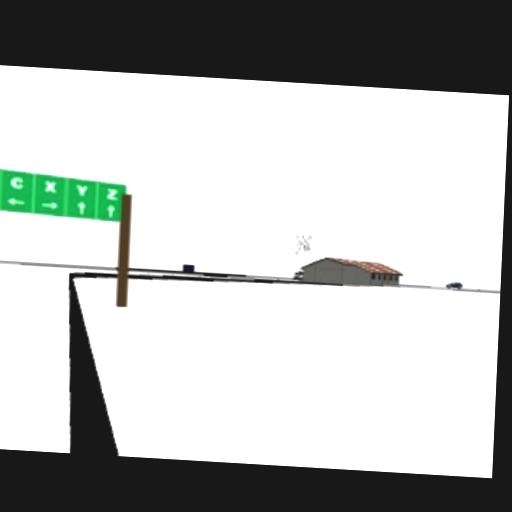C: (9, 175, 25, 190)
Left: (6, 195, 26, 206)
Right: (40, 199, 60, 212)
Straight: (75, 200, 87, 215), (106, 203, 116, 219)
X: (45, 179, 57, 194)
Y: (75, 182, 89, 196)
Z: (105, 186, 120, 200)
